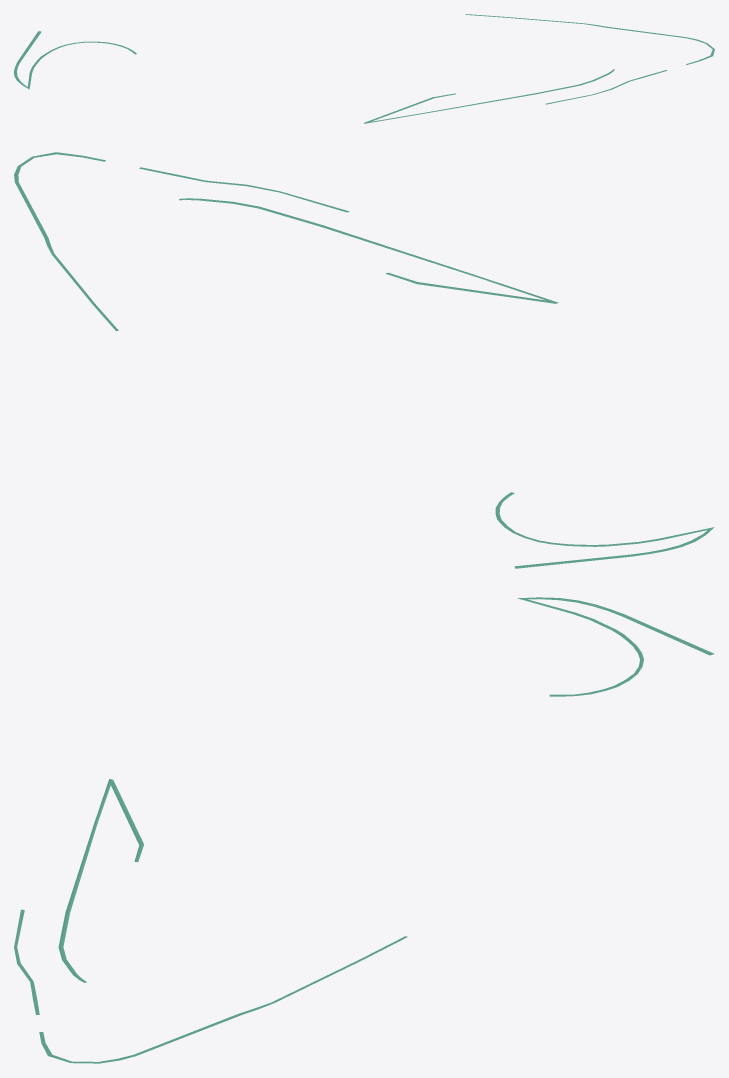
The model's file is border.fbx.
3 renders of one model, top to bottom at view 1: azimuth 30°, elevation 25°; view 2: azimuth 150°, elevation 25°; view 3: azimuth 270°, elevation 25°, orthographic. The views are drawn at different scales.
Parts seen in each view (by area): view 1: polySurface35; view 2: polySurface35; view 3: polySurface35.
Boxes of the visible parts, x1=… form: polySurface35: x1=14, y1=14, x2=714, y2=123; polySurface35: x1=14, y1=152, x2=714, y2=568; polySurface35: x1=14, y1=597, x2=714, y2=1063.
Bounding box in the file's own units: 57.13 × 0.0122 × 36.3.
